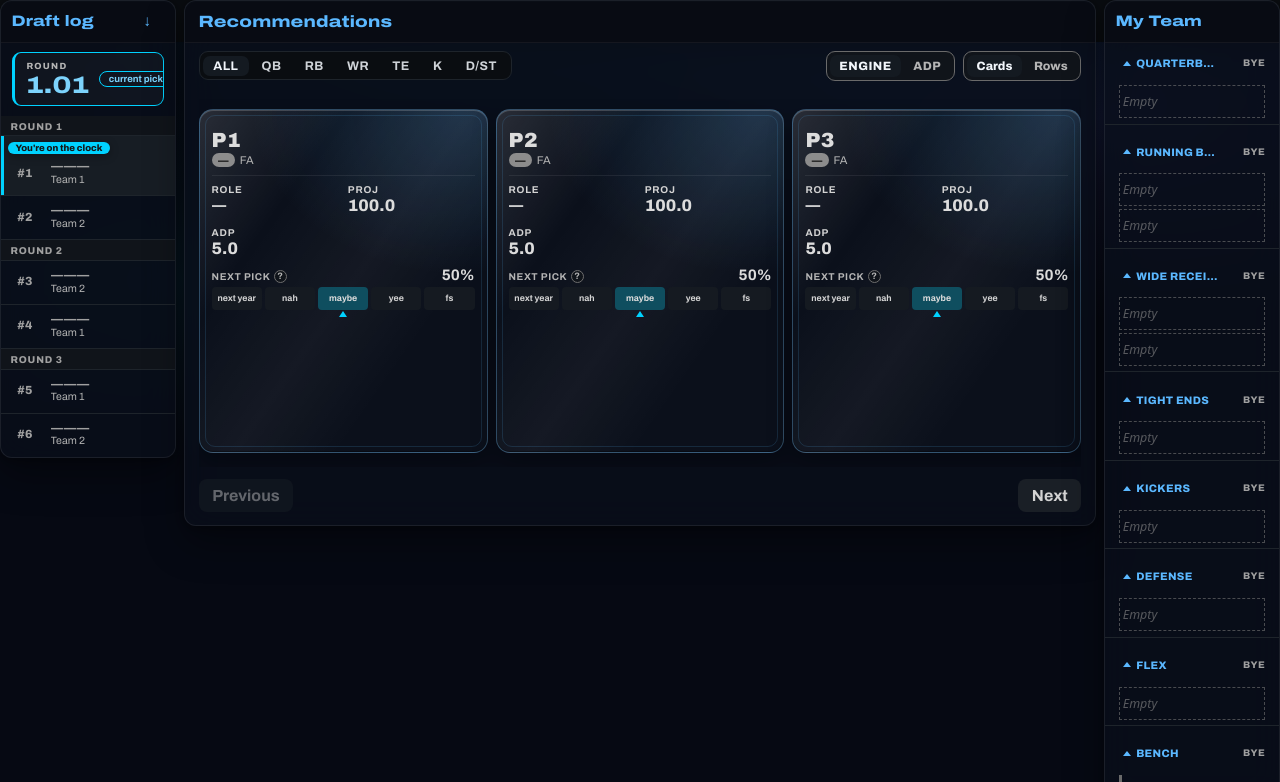
DraftWorkspace board presentation › shows the full capped board in Rows without a load-more action
Click the radio button labelled "Rows". click: [1051, 66]
box: [1024,55,1077,77]
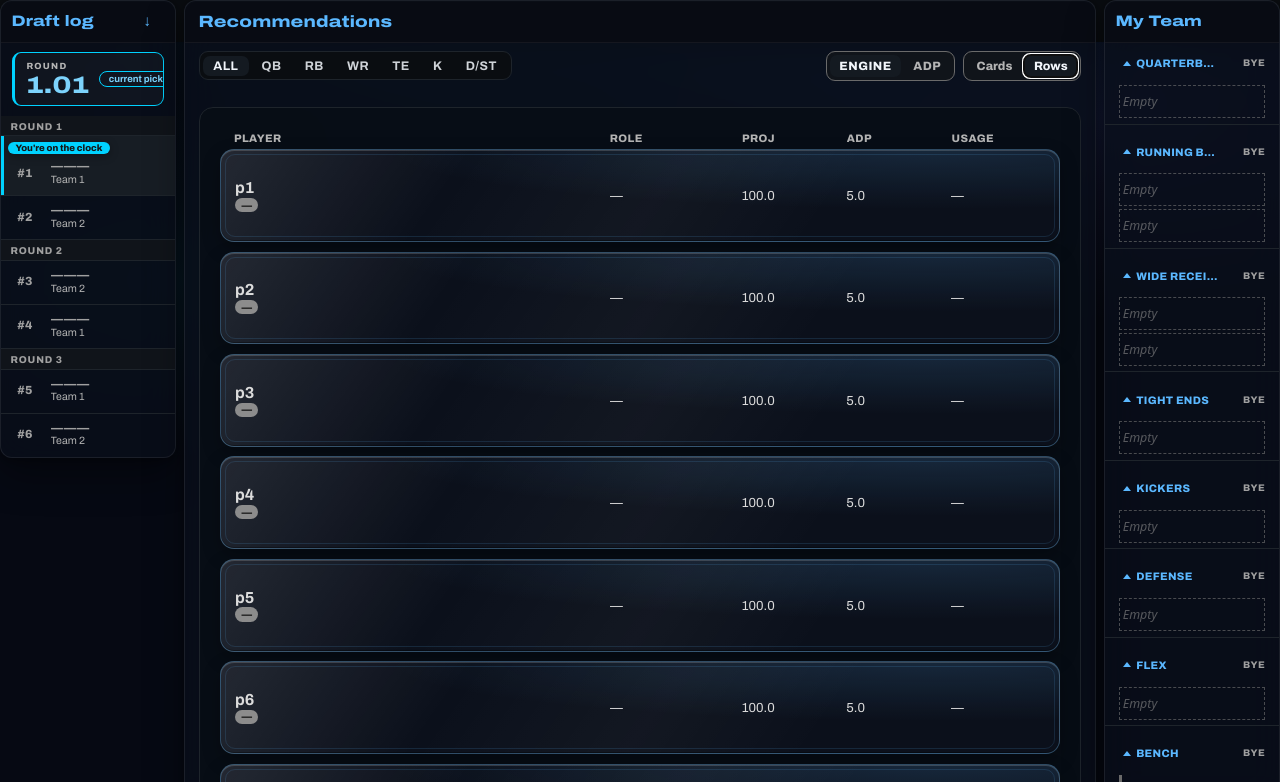
Check: the number of buttons named "View details for" is 24
